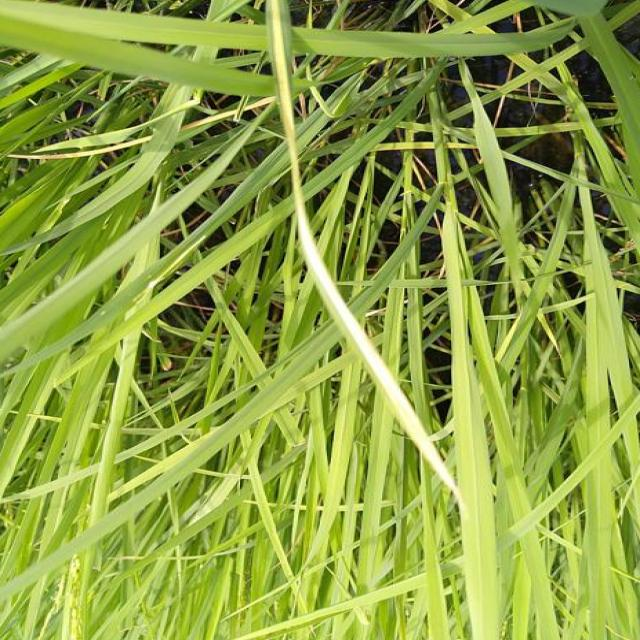Leaf Blight: (269, 0, 466, 509)
